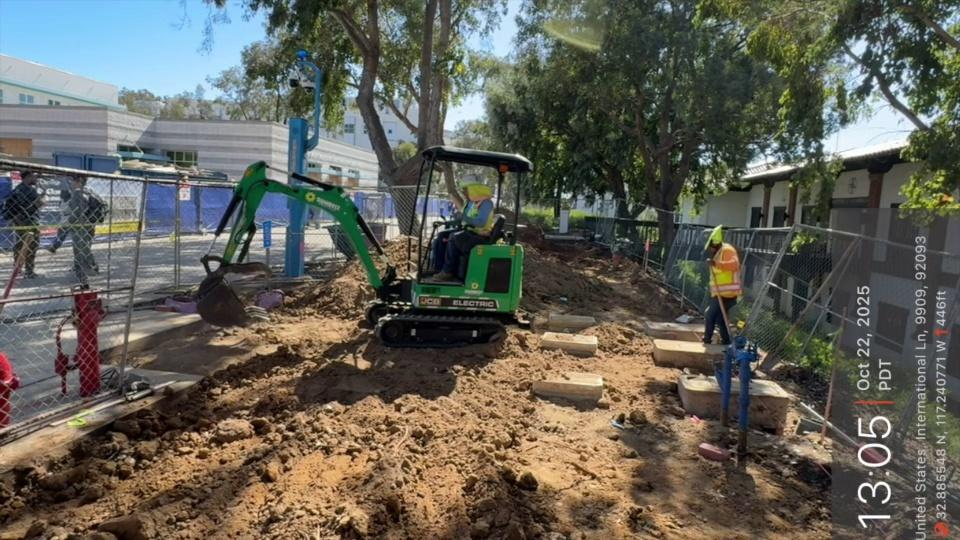Exacavator: (194, 144, 535, 349)
